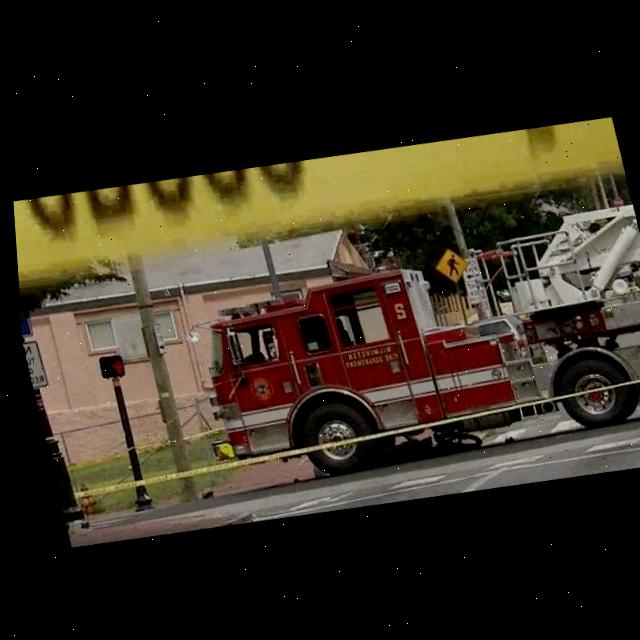emergency: (166, 184, 640, 499)
